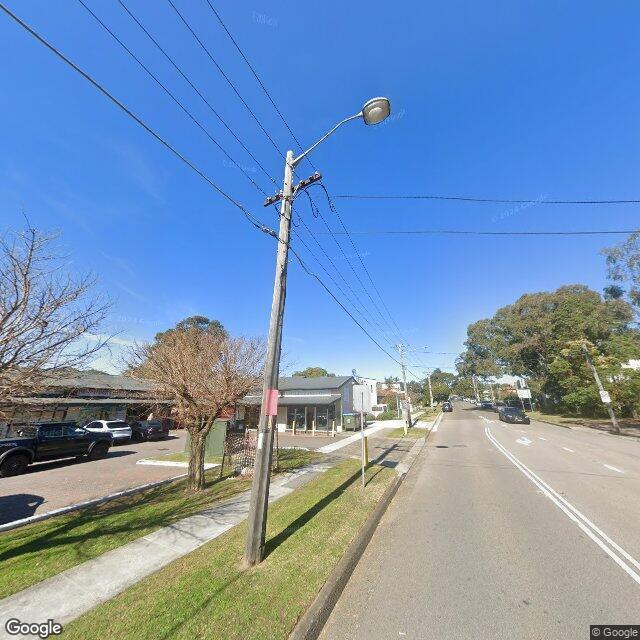crossarm: (263, 174, 323, 206)
streetlight: (292, 98, 391, 168), (402, 345, 430, 355)
timber-pole: (244, 151, 294, 566), (399, 344, 407, 434), (427, 366, 433, 406)
